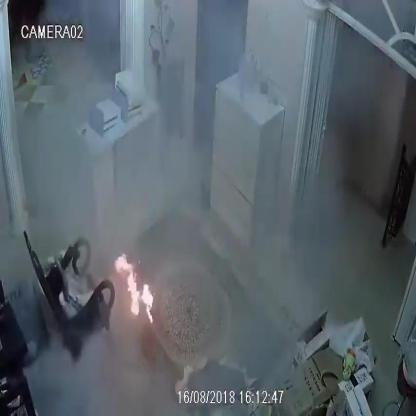fire: (115, 254, 153, 323)
